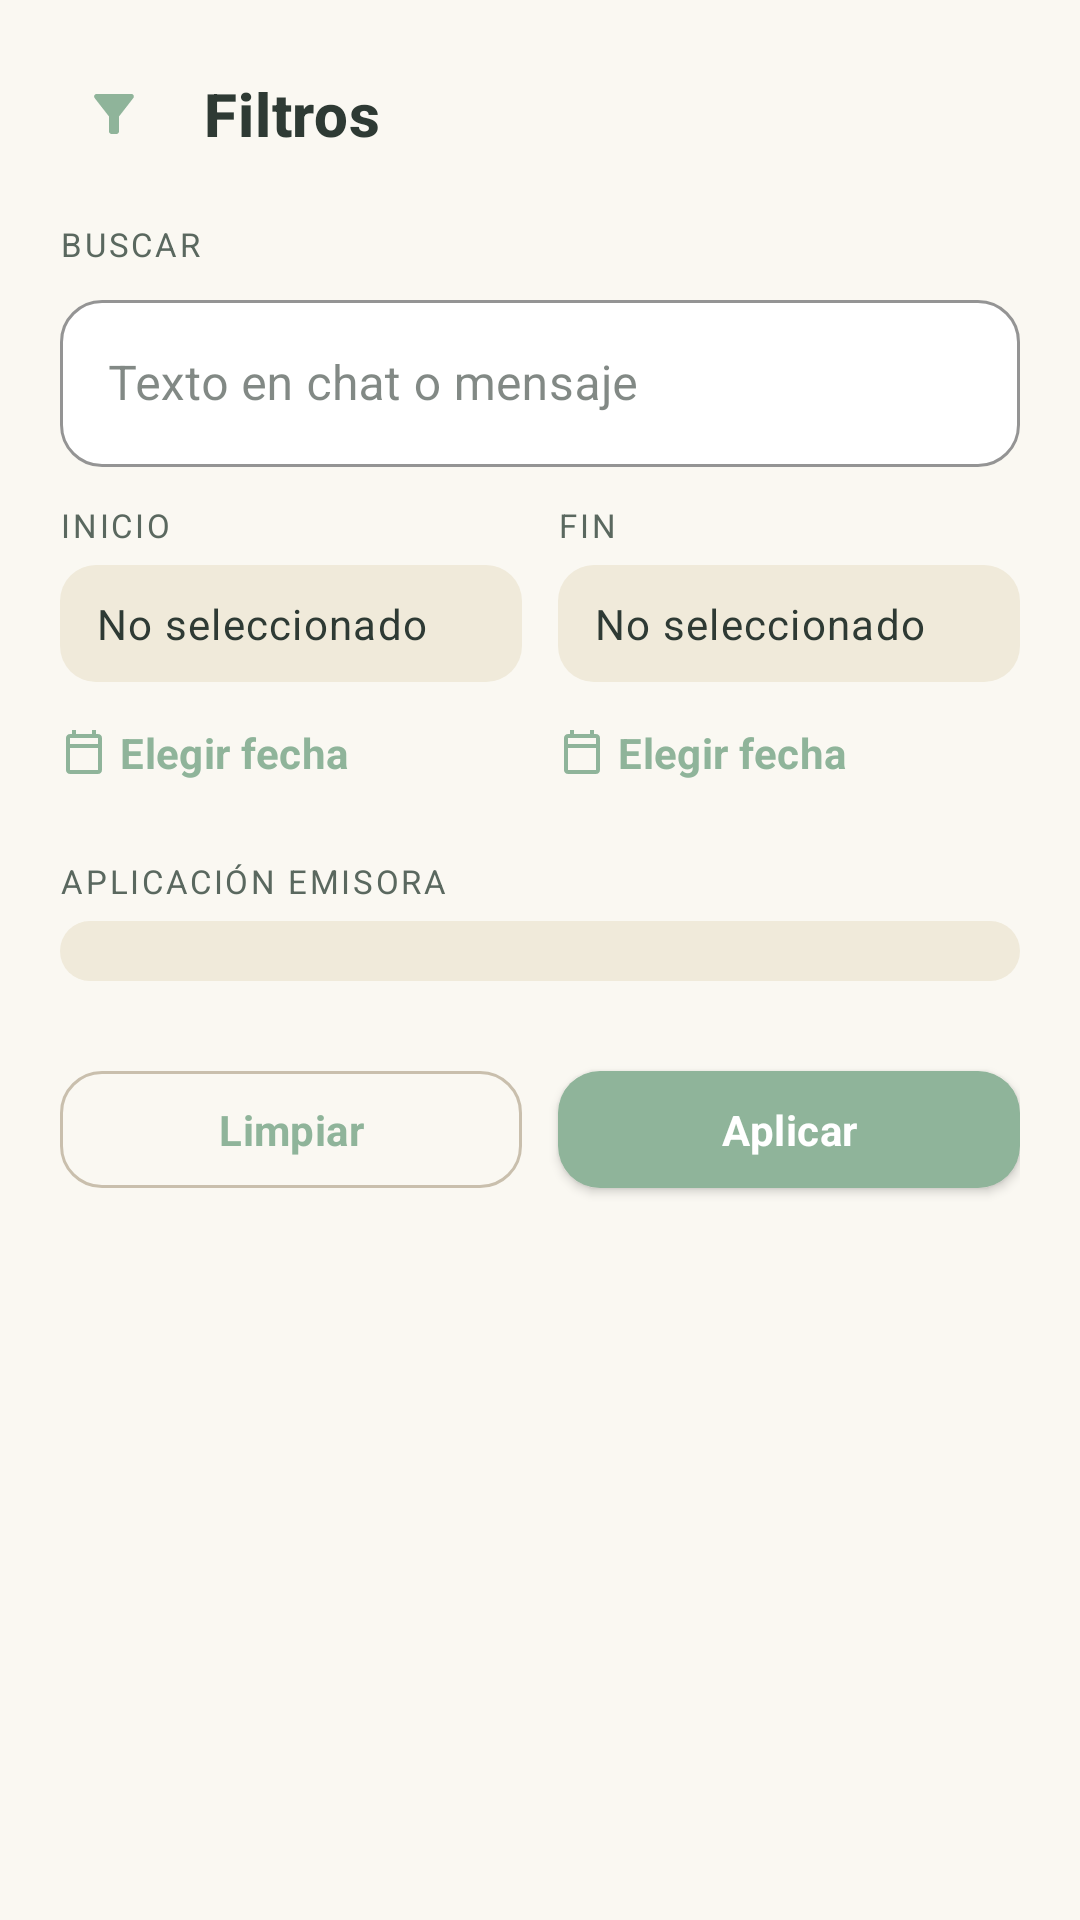

Icons on this 1080px×1920px Android screen, each with the point to tap as point (x, y):
filter: point (114, 114)
